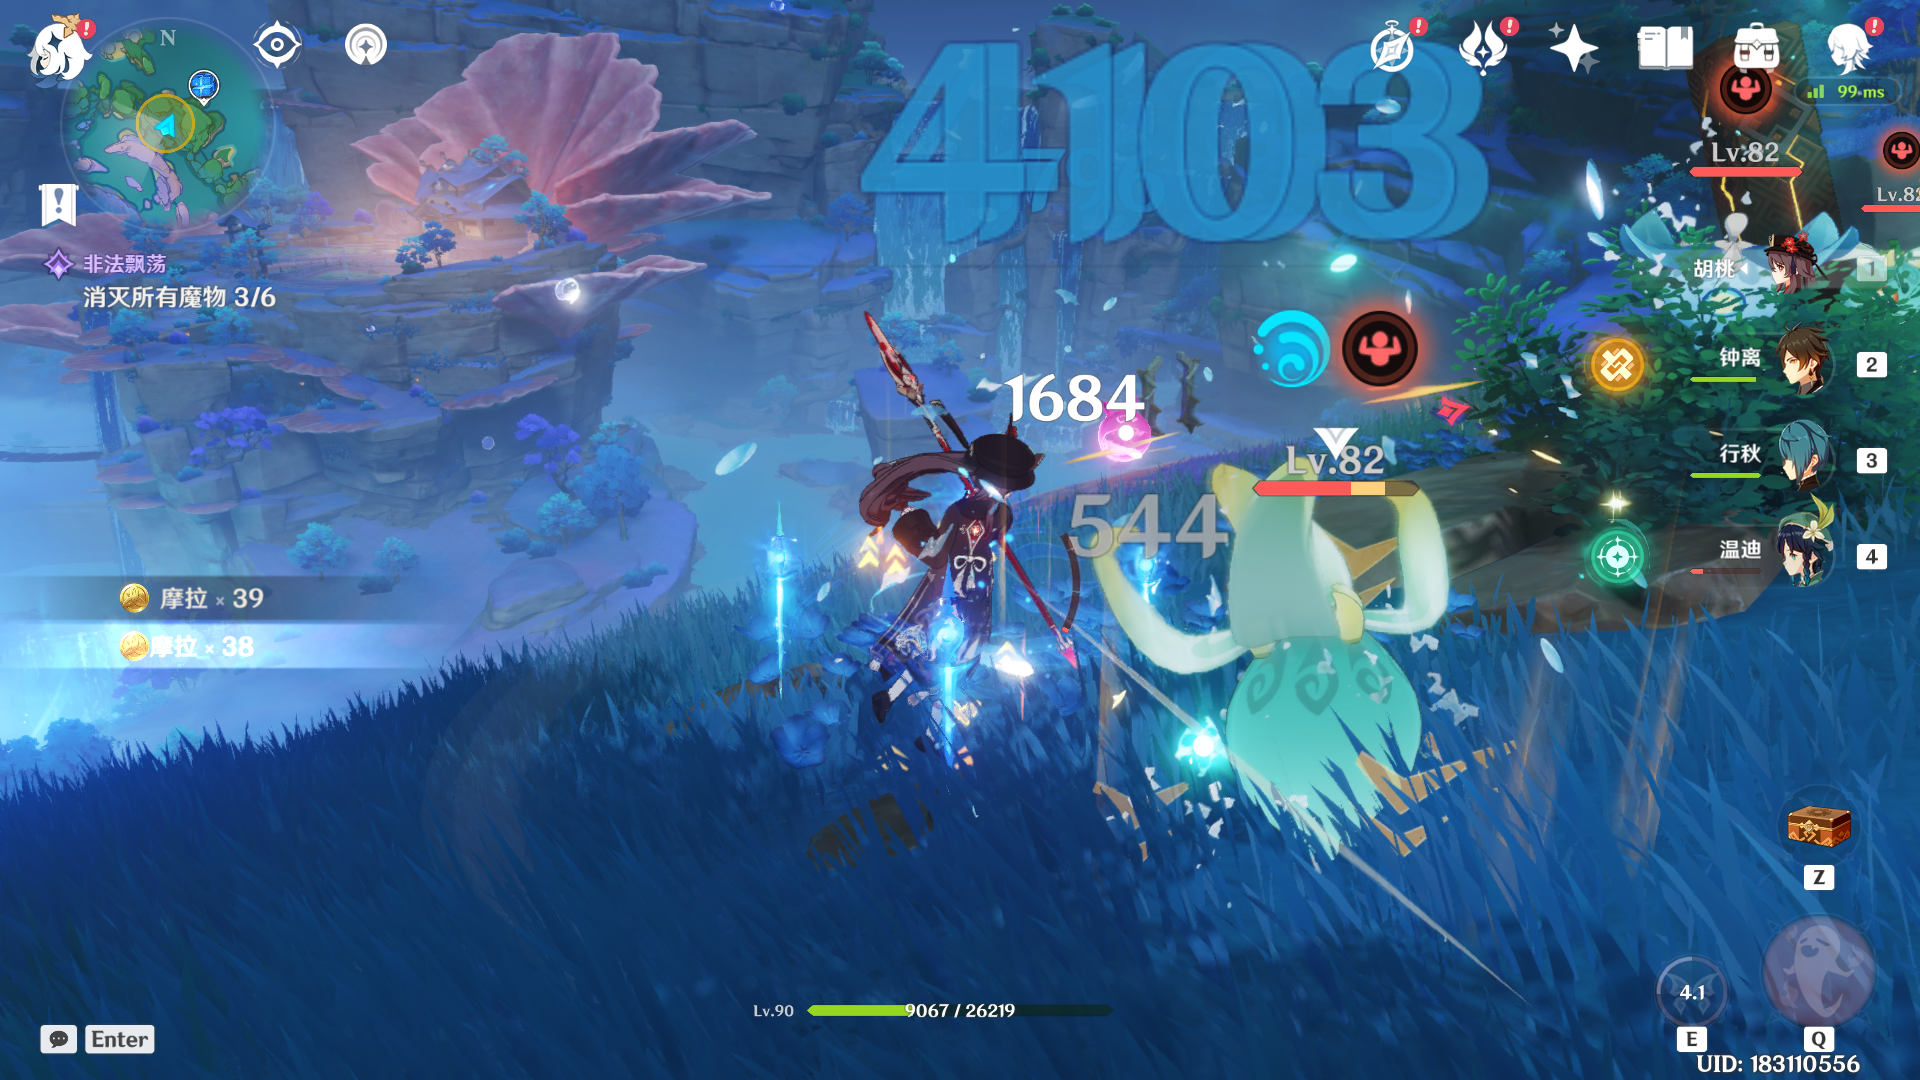character: (791, 381, 1050, 785)
